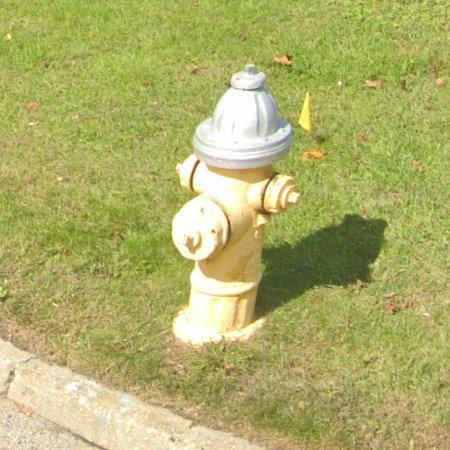a fire hydrant: (172, 64, 301, 346)
